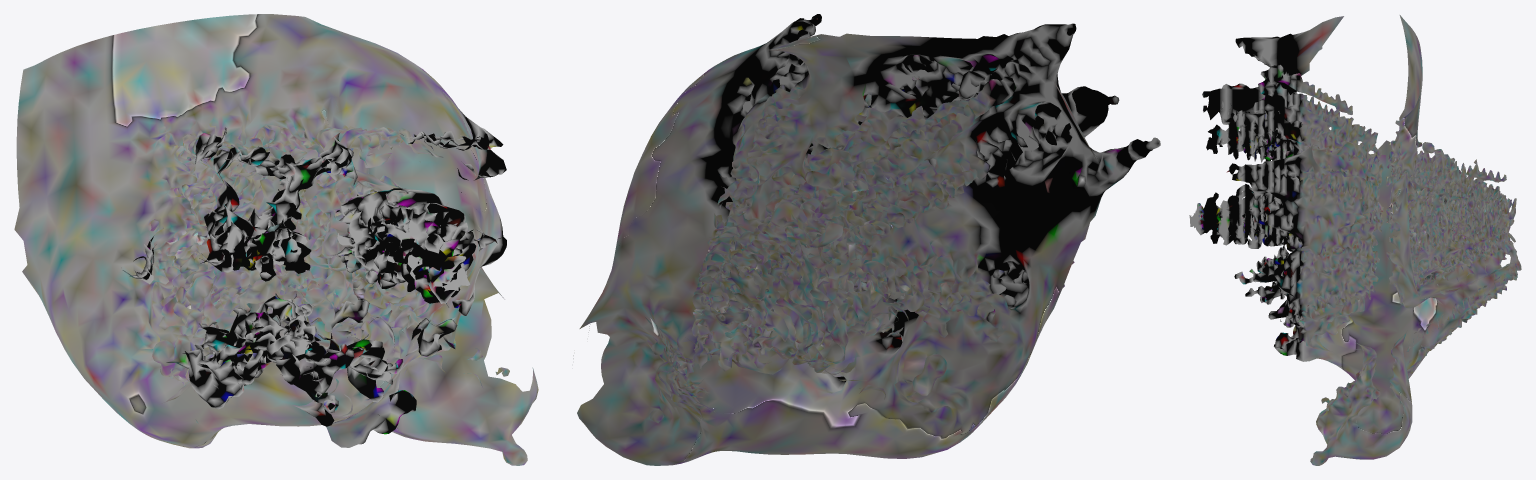
3 views of the same model, side by side, from view 1: azimuth 30°, elevation 25°; view 2: azimuth 150°, elevation 25°; view 3: azimuth 270°, elevation 25° (orthographic). The views are drawn at different scales.
Size of the model in its own units: 11.82 by 10.78 by 10.41.
